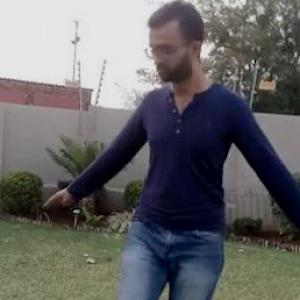land: (63, 18, 299, 298)
